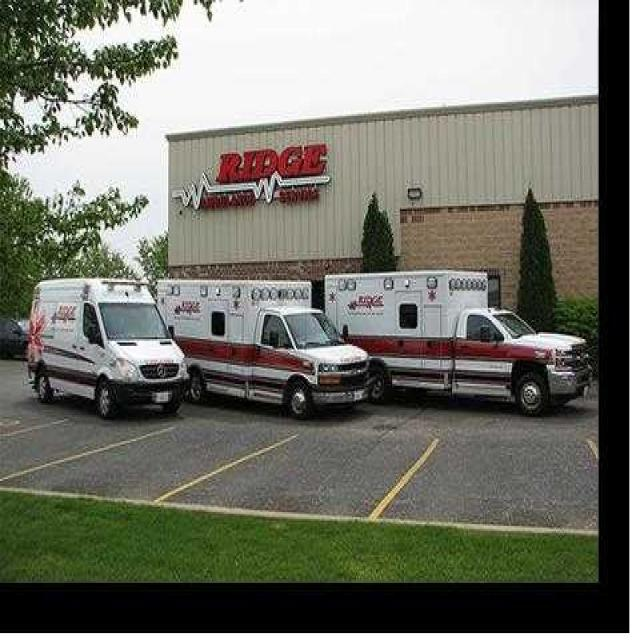ambulance: (13, 267, 195, 435)
